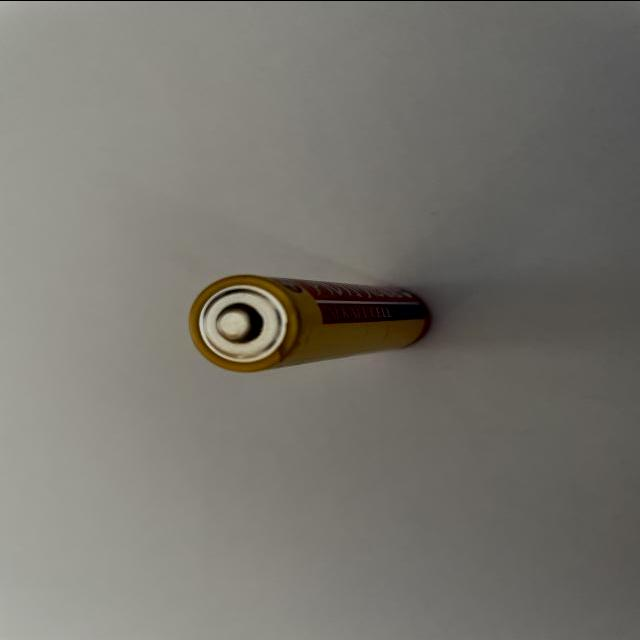AA: (187, 271, 434, 374)
